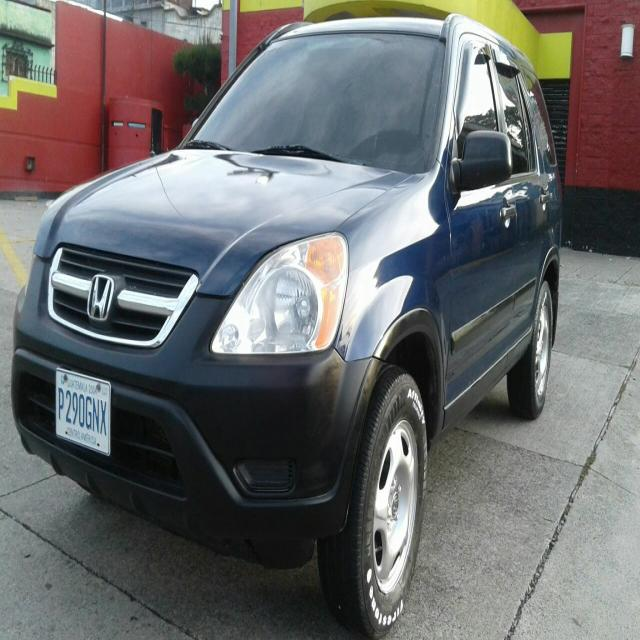Placas: (55, 362, 112, 458)
